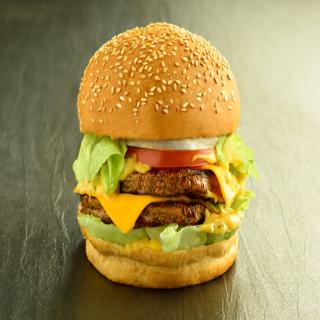Hamburger: (73, 20, 259, 286)
